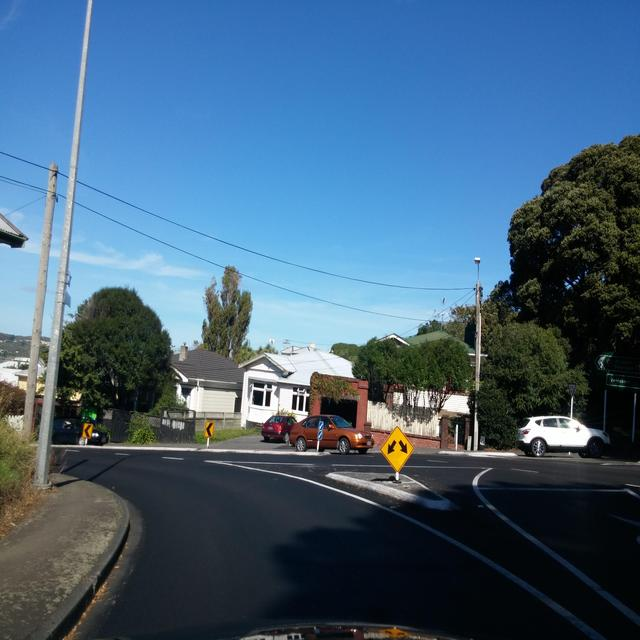Billboard: (81, 406, 96, 425)
Car: (262, 415, 374, 454), (516, 416, 609, 457), (52, 419, 108, 446)
Trash Can: (478, 436, 484, 450)
Vegetation: (478, 132, 639, 461), (189, 266, 359, 420), (56, 285, 189, 444), (0, 332, 51, 530)
